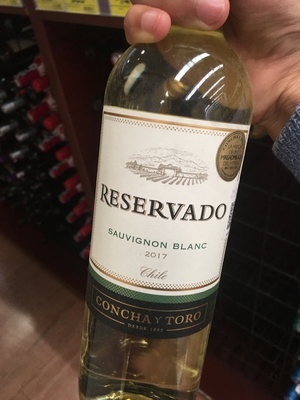reservado sauvignon blanc: (85, 14, 235, 400)
